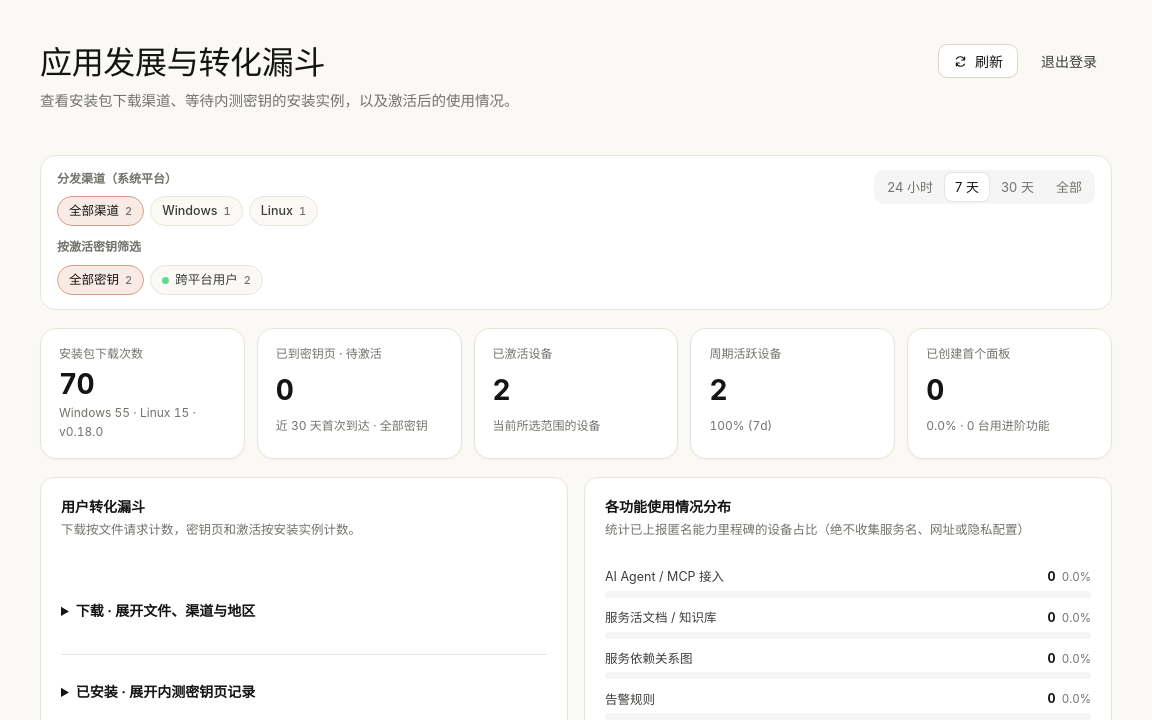
Test case: GrowthPage admin conversion funnel › auto-logs in whitelisted fli.gda@foxmail.com without password and filters Windows vs Linux channels
Expected: the heading "用户转化漏斗" is shown, [61, 498, 145, 515]
Expected: the button "Windows 1" is shown, [150, 196, 243, 226]
Click the button "Linux 1" at (283, 212), box [249, 196, 318, 226]
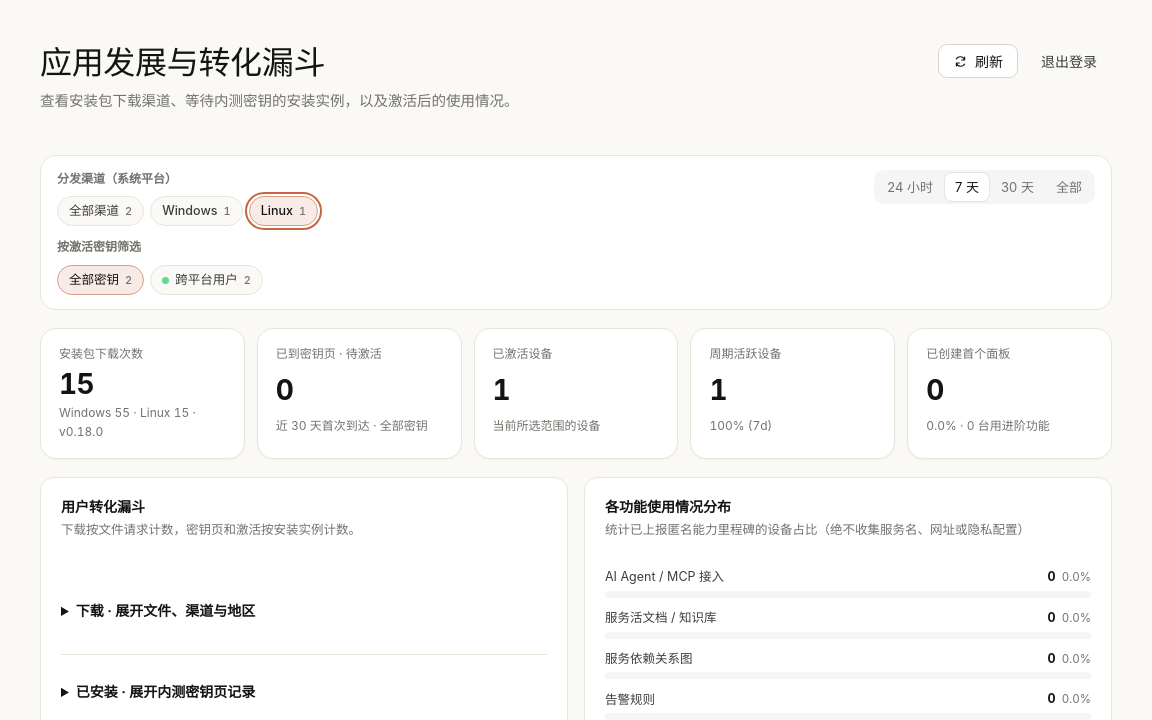
Expected: the text "15" is shown, [59, 367, 94, 401]
